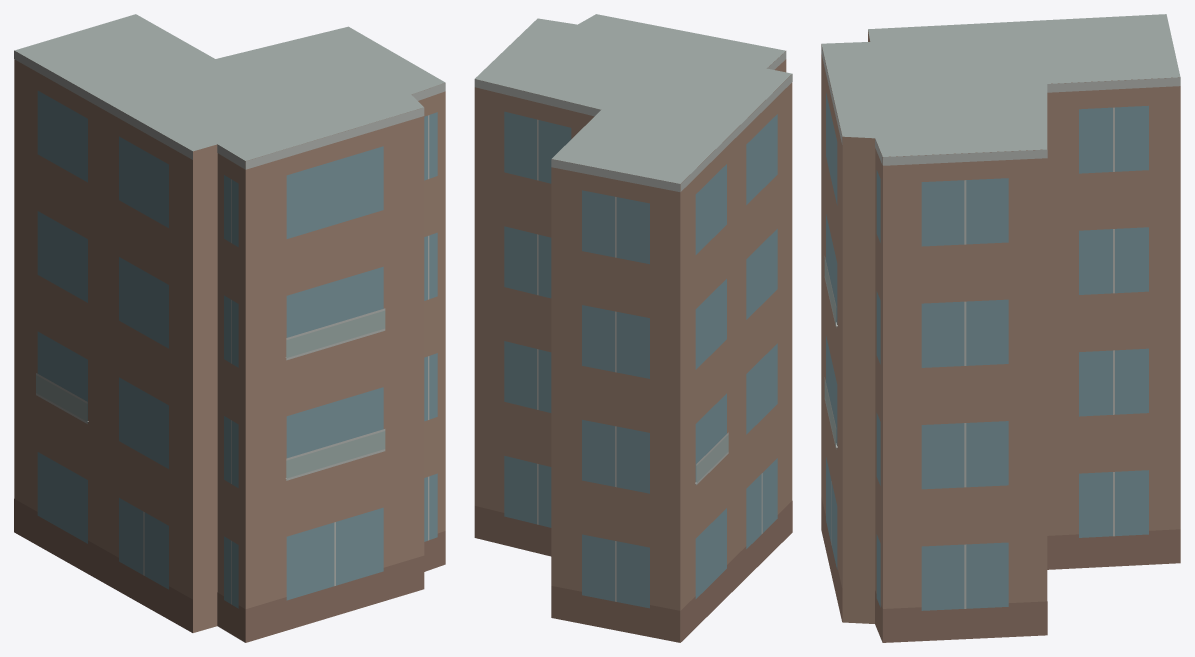
Rendered from survey-upis-32469052.glb.
The picture shows the model from 3 angles, left to right: view 1: azimuth 30°, elevation 25°; view 2: azimuth 150°, elevation 25°; view 3: azimuth 270°, elevation 25°; orthographic projection. The views are drawn at different scales.
Visible parts, largest first — view 1: survey-upis-32469052.tmp; view 2: survey-upis-32469052.tmp; view 3: survey-upis-32469052.tmp.
Part boxes in pixels (x1=…): survey-upis-32469052.tmp: x1=14, y1=14, x2=445, y2=642; survey-upis-32469052.tmp: x1=474, y1=14, x2=792, y2=642; survey-upis-32469052.tmp: x1=821, y1=14, x2=1180, y2=642.
Size of the model in its own units: 8.53 by 13.5 by 9.06.
